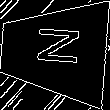N_W: (27, 30, 81, 73)
